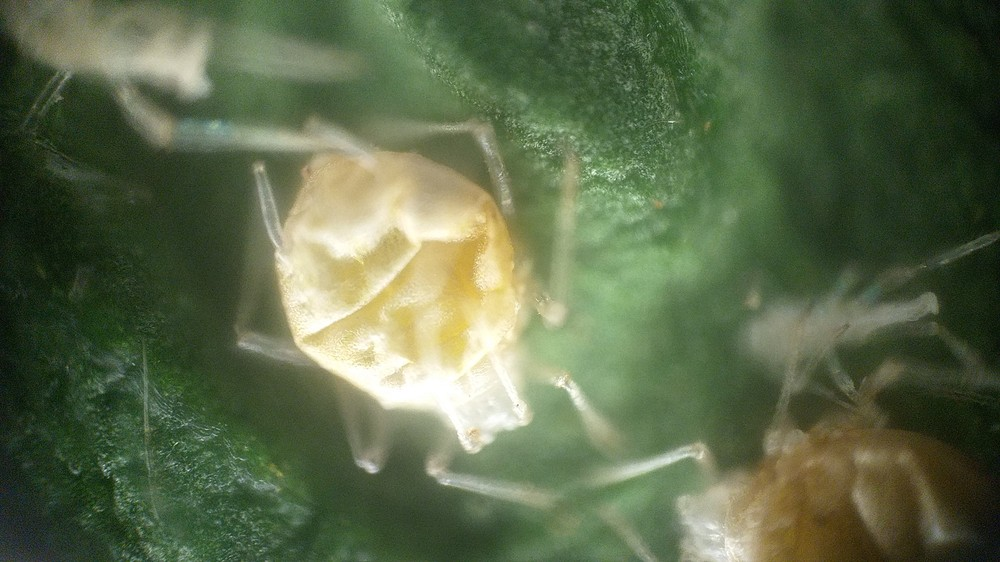Pulgon: (207, 97, 638, 511), (595, 361, 998, 562)
